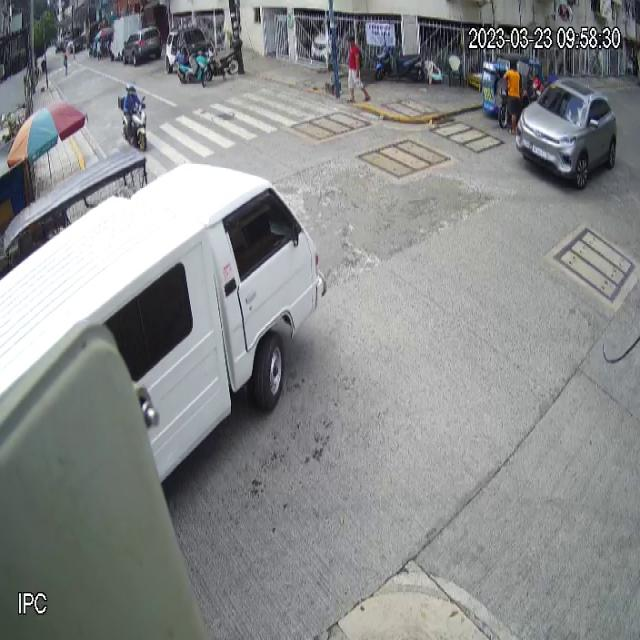Car: (514, 74, 618, 190)
Tricycle: (480, 52, 530, 129)
Van: (0, 157, 329, 489)
